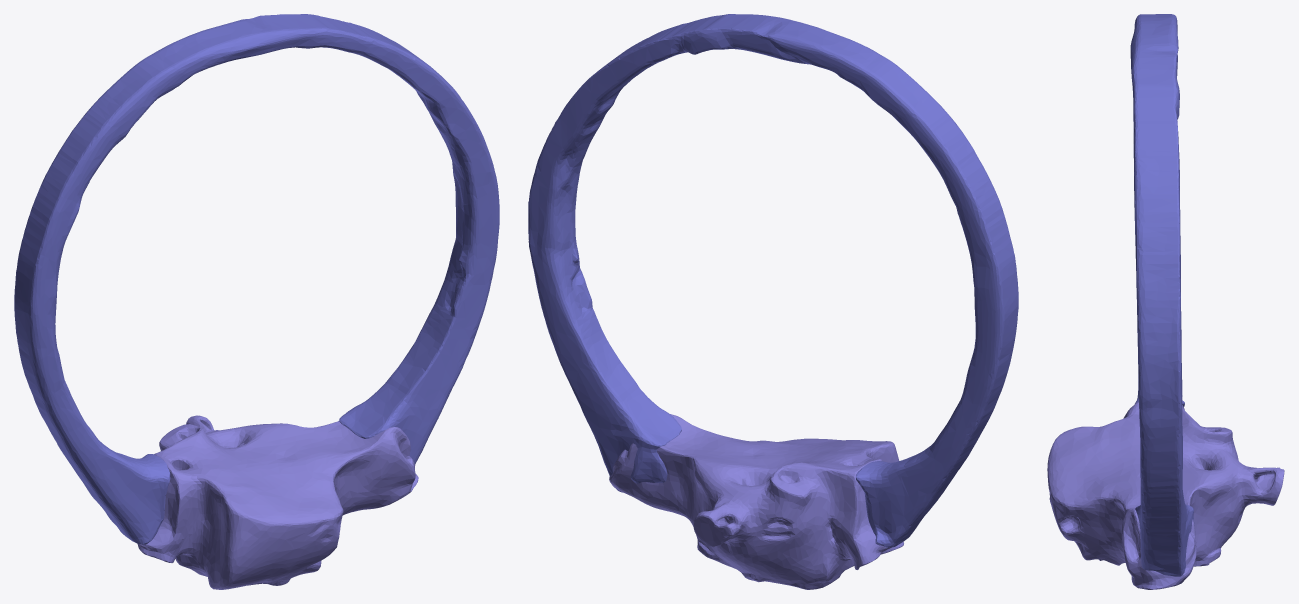
3 views of the same model, side by side, from view 1: azimuth 30°, elevation 25°; view 2: azimuth 150°, elevation 25°; view 3: azimuth 270°, elevation 25° (orthographic). The views are drawn at different scales.
Parts seen in each view (by area): view 1: world; view 2: world; view 3: world.
Part boxes in pixels (x1,y1,x2,y2): world: [14, 14, 499, 589]; world: [528, 14, 1018, 589]; world: [1047, 14, 1284, 589].
Bounding box in the file's own units: 1.78 × 1.95 × 0.8118.
